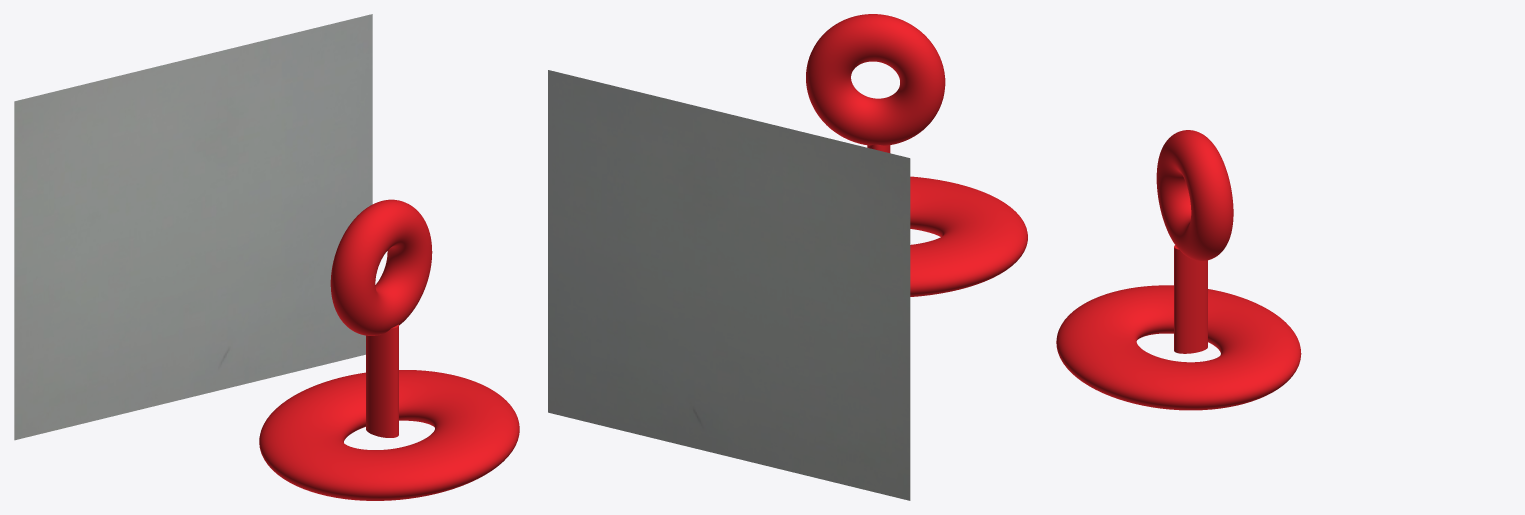
File: asset.glb
The picture shows the model from 3 angles, left to right: view 1: azimuth 30°, elevation 25°; view 2: azimuth 150°, elevation 25°; view 3: azimuth 270°, elevation 25°; orthographic projection. The views are drawn at different scales.
Parts seen in each view (by area): view 1: mesh_id1, mesh_id28, mesh_id26, mesh_id27; view 2: mesh_id1, mesh_id26, mesh_id28; view 3: mesh_id28, mesh_id26, mesh_id27.
Boxes of the visible parts, left/top/right/bottom form: mesh_id1: left=14, top=14, right=372, bottom=440; mesh_id28: left=259, top=370, right=519, bottom=500; mesh_id26: left=330, top=199, right=432, bottom=335; mesh_id27: left=366, top=324, right=398, bottom=437; mesh_id1: left=548, top=70, right=910, bottom=500; mesh_id26: left=806, top=14, right=945, bottom=145; mesh_id28: left=910, top=176, right=1027, bottom=296; mesh_id28: left=1056, top=285, right=1301, bottom=410; mesh_id26: left=1156, top=130, right=1233, bottom=260; mesh_id27: left=1174, top=245, right=1207, bottom=353.
Size of the model in its own units: 0.386 by 0.349 by 0.4472.
4 materials, 4 textured.
